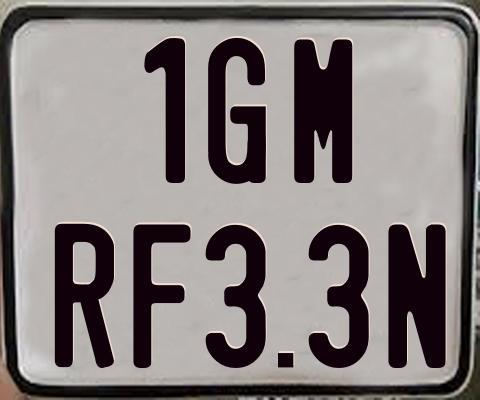1: (142, 35, 184, 182)
3: (305, 222, 370, 368), (203, 222, 265, 367)
F: (130, 224, 190, 370)
G: (205, 38, 263, 188)
M: (292, 37, 353, 186)
N: (385, 222, 443, 369)
R: (54, 223, 115, 369)
